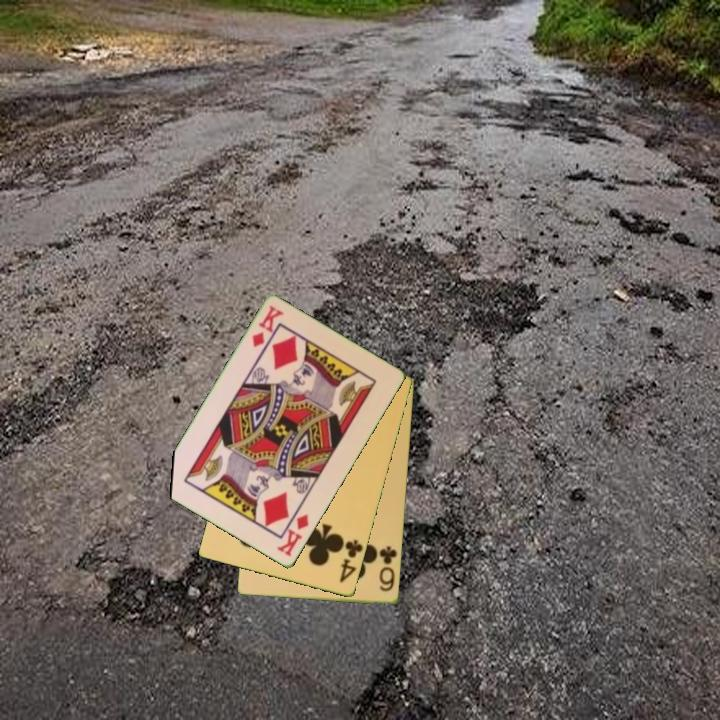4c: (336, 537, 366, 586)
6c: (376, 543, 400, 595)
Kd: (273, 511, 312, 560), (249, 302, 286, 351)
